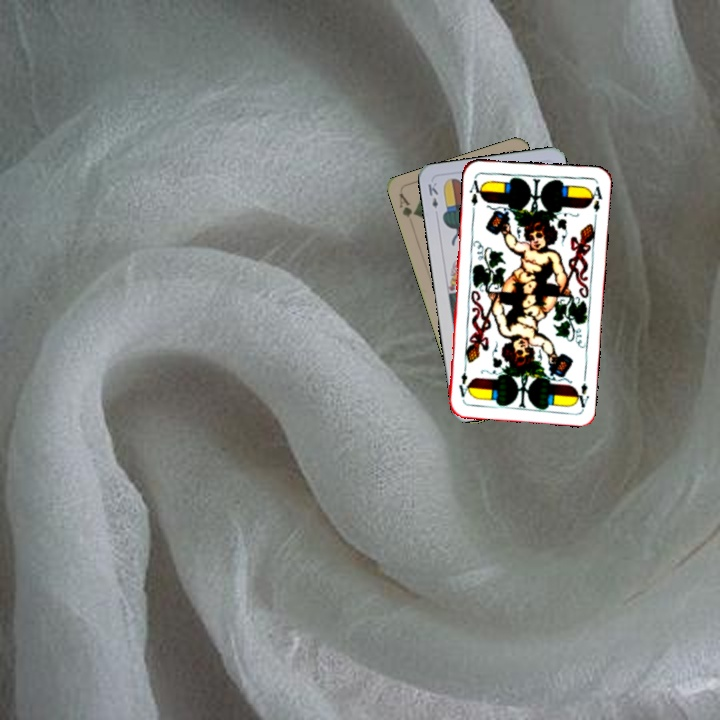EA: (571, 370, 592, 410), (466, 173, 485, 214)
EK: (424, 178, 441, 211)
GA: (395, 190, 419, 220)
